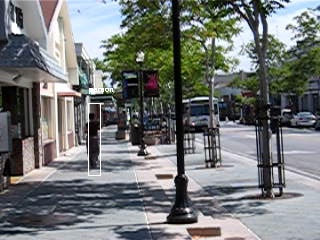person: (84, 112, 103, 169), (83, 112, 102, 169), (85, 112, 104, 169), (84, 111, 103, 168), (84, 113, 103, 170)
target_negative: (7, 34, 270, 183), (221, 20, 320, 153), (63, 69, 187, 157), (205, 95, 311, 188), (156, 54, 175, 116), (299, 62, 310, 98)
